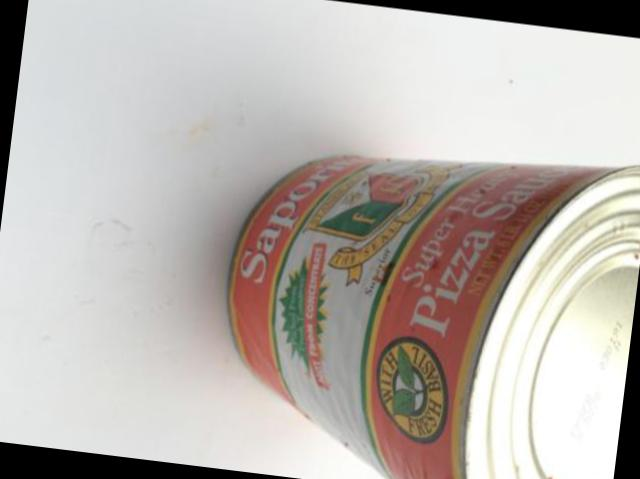metal: (229, 157, 640, 479)
